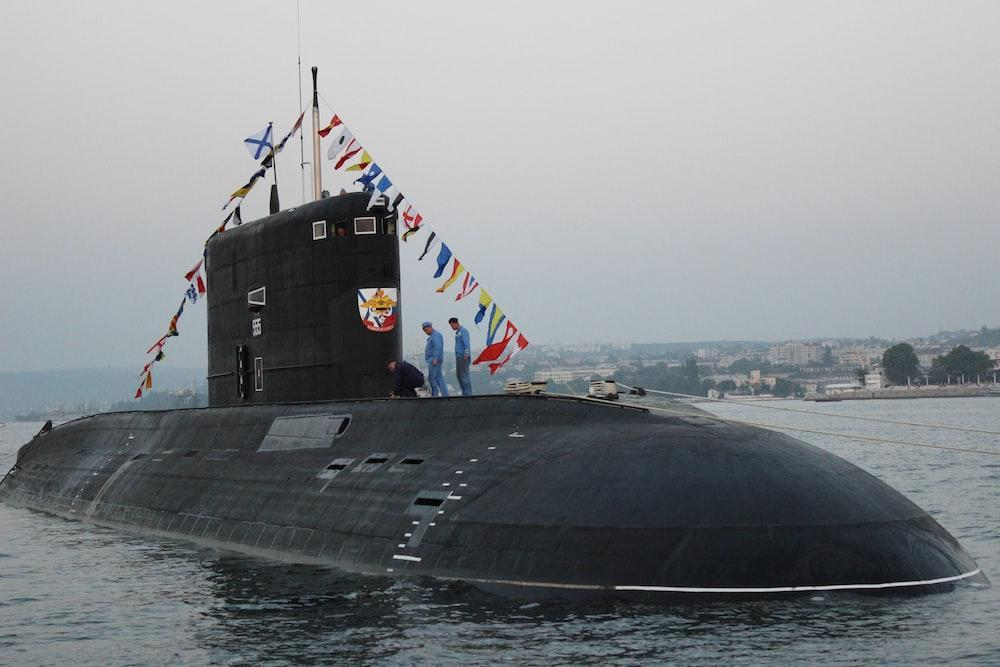Submarine: (0, 77, 970, 659)
